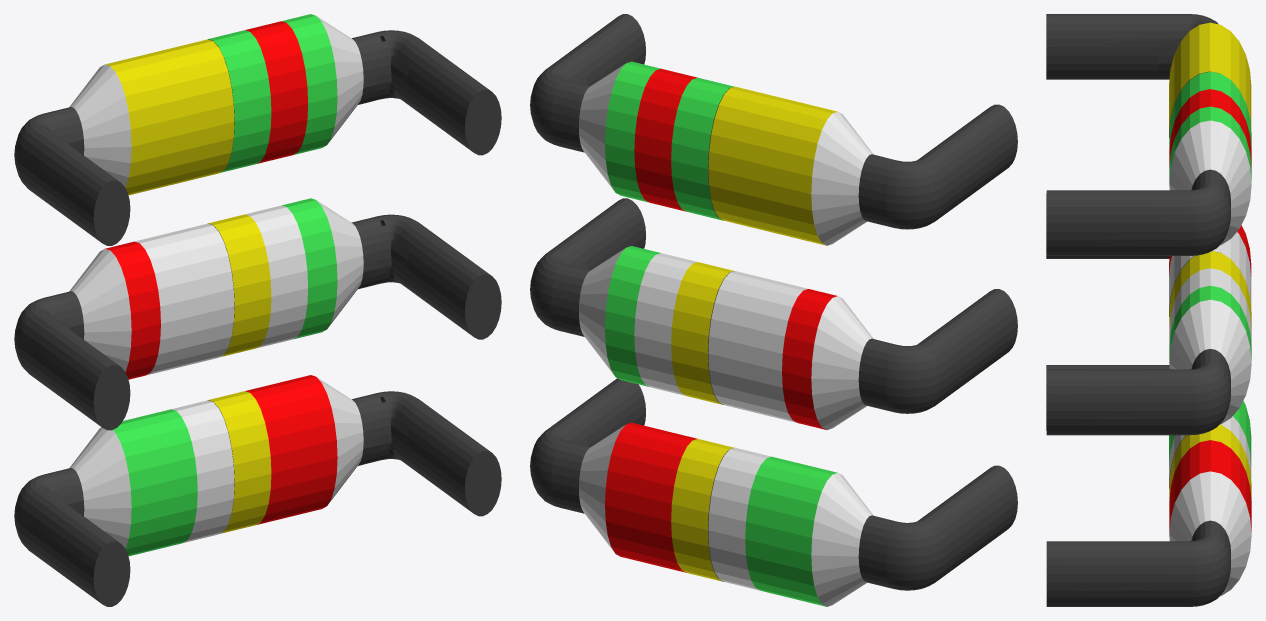
File: Resistor-Upgrade2.fbx
3 renders of one model, left to right at view 1: azimuth 30°, elevation 25°; view 2: azimuth 150°, elevation 25°; view 3: azimuth 270°, elevation 25°, orthographic. The views are drawn at different scales.
Visible parts, largest first — view 1: Resistor3; view 2: Resistor3; view 3: Resistor3.
Boxes of the visible parts, x1,y1,x2,y2 form: Resistor3: (14, 14, 501, 606); Resistor3: (530, 14, 1017, 606); Resistor3: (1046, 14, 1251, 606).
Size of the model in its own units: 145 by 167 by 65.18.
